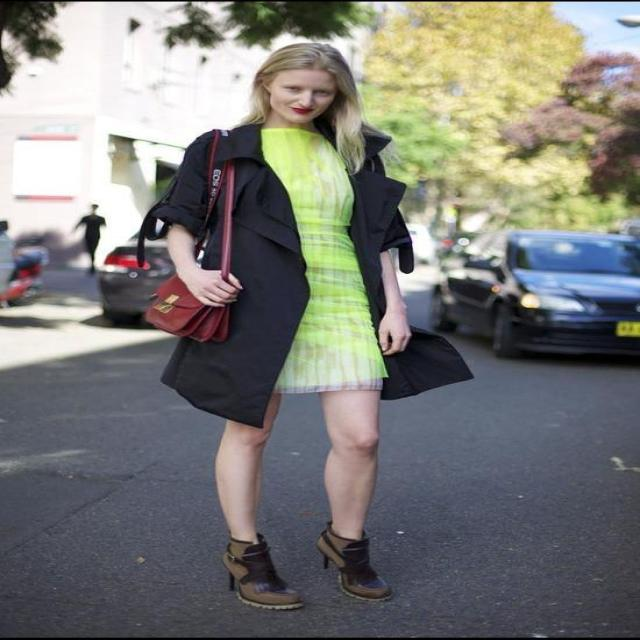dress: (215, 127, 383, 396)
sweater: (161, 124, 472, 428)
